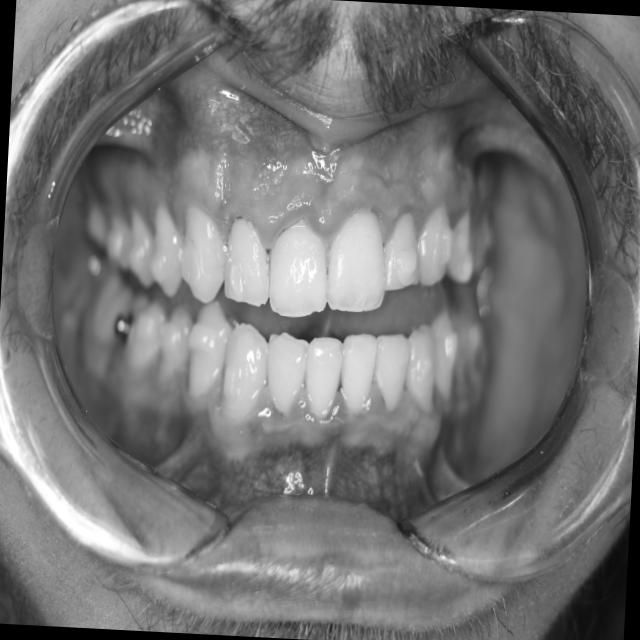tooth: (253, 200, 345, 330), (323, 195, 395, 324), (176, 295, 237, 419), (212, 200, 278, 311), (215, 316, 275, 436), (255, 319, 318, 422), (177, 197, 232, 312), (375, 201, 433, 309), (112, 279, 169, 379), (300, 335, 355, 433), (413, 188, 457, 300), (117, 195, 162, 300), (142, 195, 186, 302), (150, 297, 196, 395), (440, 301, 489, 391), (335, 329, 383, 419), (86, 261, 134, 349), (401, 323, 444, 419), (369, 326, 413, 418), (424, 314, 462, 408), (445, 203, 480, 292), (79, 190, 117, 264), (97, 210, 136, 278), (467, 209, 496, 280)
